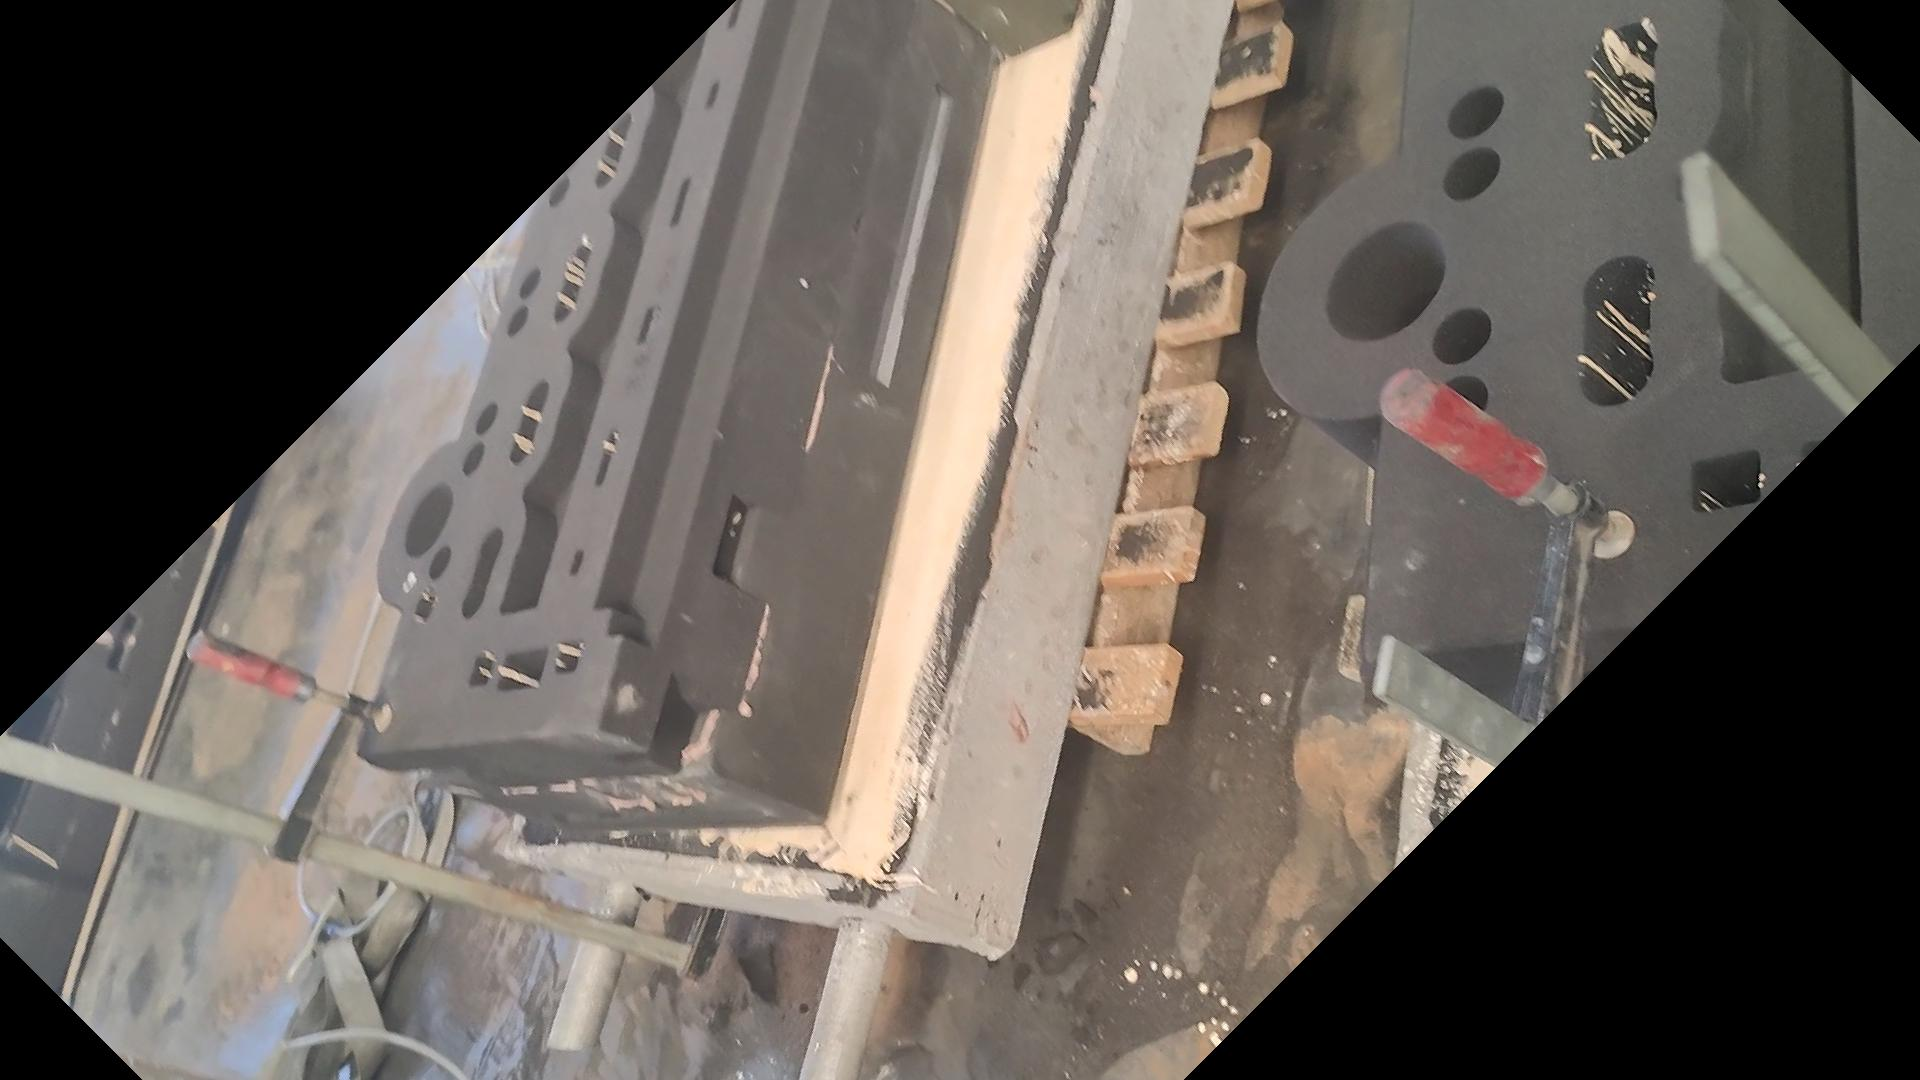pouring hole: (1327, 218, 1445, 343), (404, 483, 454, 559)
